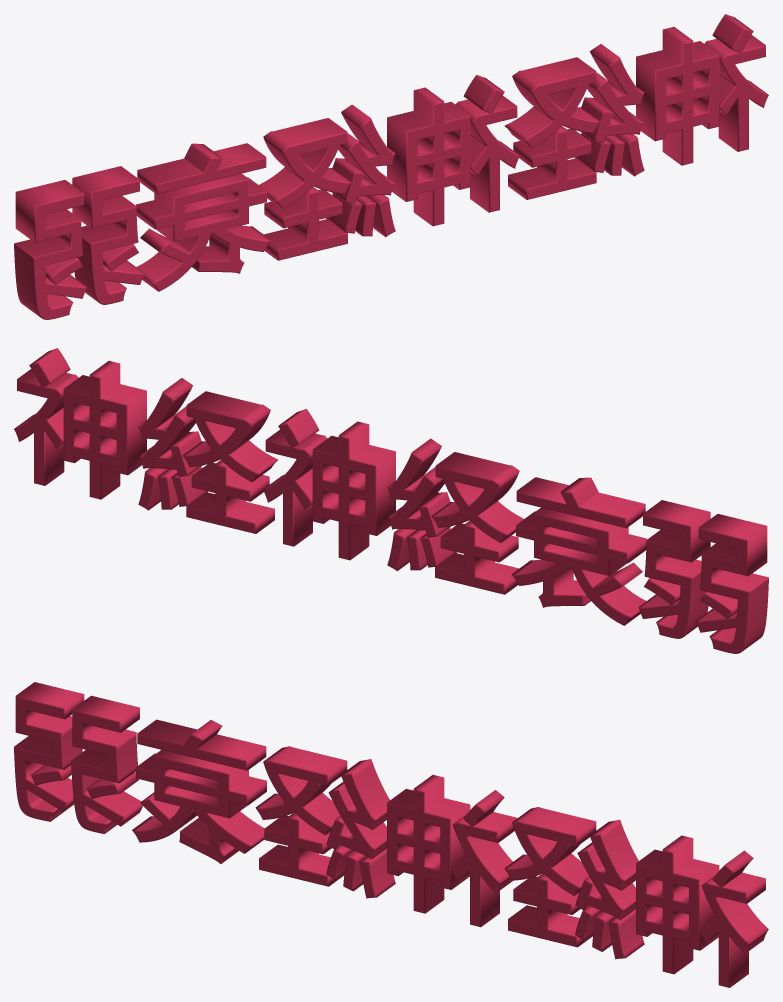
The model's file is title.obj.
The picture shows the model from 3 angles, top to bottom: view 1: azimuth 30°, elevation 25°; view 2: azimuth 150°, elevation 25°; view 3: azimuth 330°, elevation 25°; orthographic projection.
Parts seen in each view (by area): view 1: テキスト; view 2: テキスト; view 3: テキスト.
Boxes of the visible parts, x1=… form: テキスト: x1=14, y1=14, x2=768, y2=319; テキスト: x1=14, y1=348, x2=768, y2=653; テキスト: x1=14, y1=682, x2=768, y2=987.
Size of the model in its own units: 5.92 by 0.9495 by 0.28.
1 material, 1 textured.
